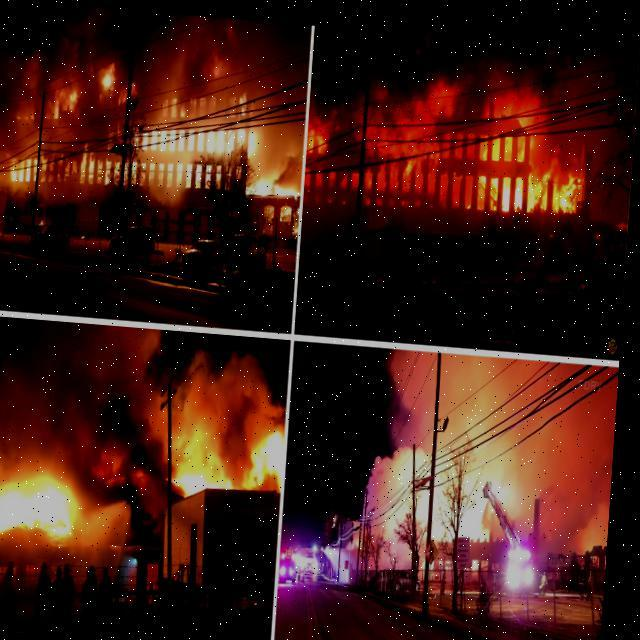Fire: (473, 100, 594, 222), (0, 463, 87, 549), (132, 113, 262, 153), (178, 422, 236, 499), (252, 423, 290, 501), (250, 162, 300, 195), (102, 58, 121, 92)
